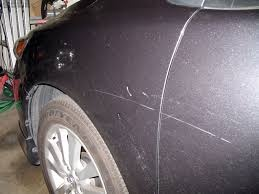Scratch: (91, 89, 234, 146), (55, 41, 78, 71)
